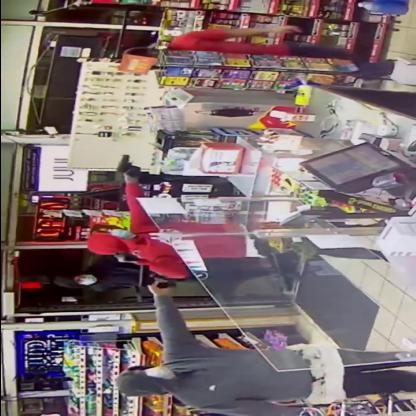Pistol: (126, 264, 186, 292), (107, 152, 148, 178)
